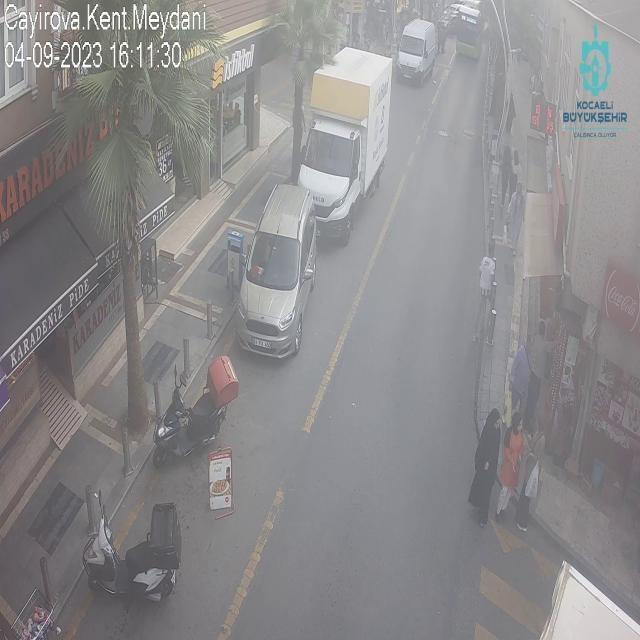Bus: (454, 1, 489, 61)
Cycle: (82, 492, 184, 606), (147, 354, 239, 472)
Truck: (294, 46, 394, 246)
Van: (232, 180, 318, 359), (398, 18, 436, 85)
